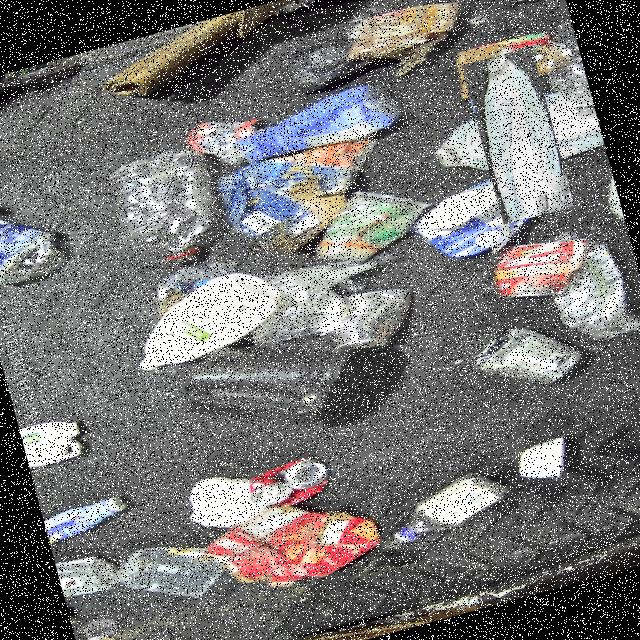milk-jug: (444, 62, 590, 210)
